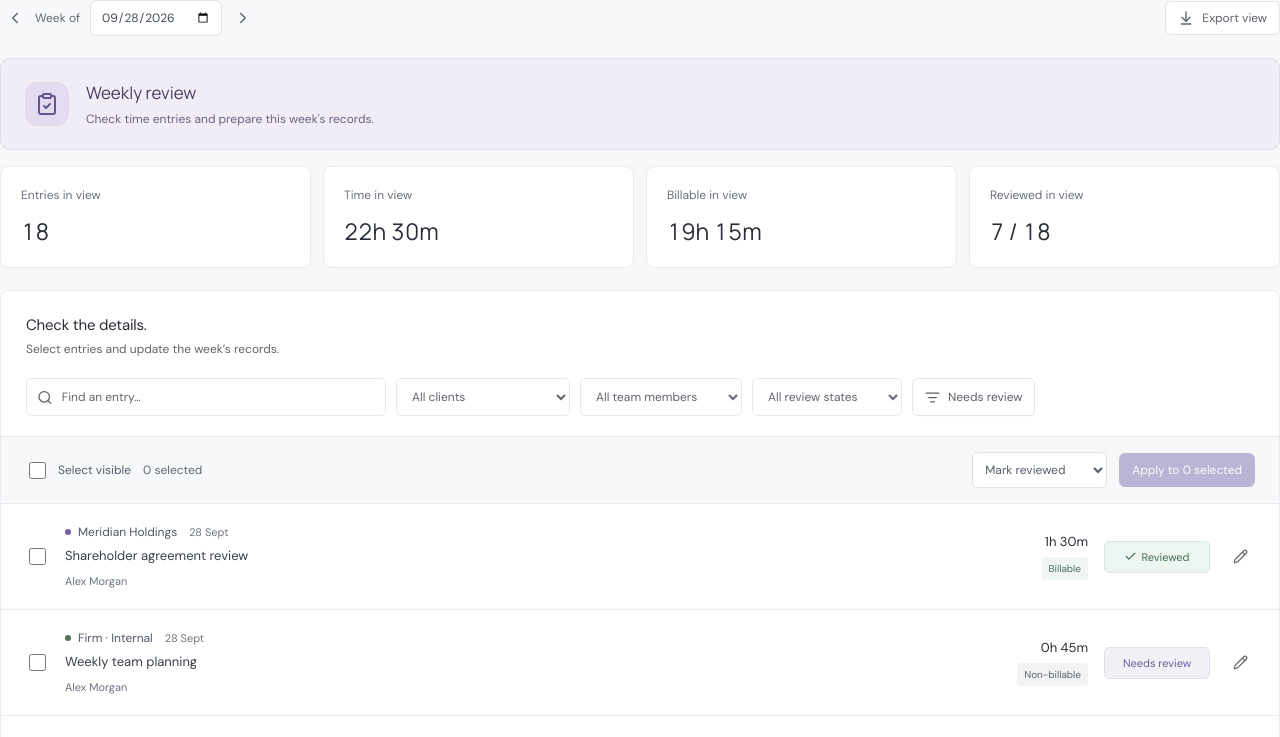
it: ReviewPage scope › reopens a reviewed entry after a client correction
The image size is (1280, 737).
expect the button with aria-label "Reopen Shareholder agreement review" is shown: met, box [1104,540,1210,572]
Click the checkbox named "Select Shareholder agreement review".
click(38, 556)  # box [29,548,46,564]
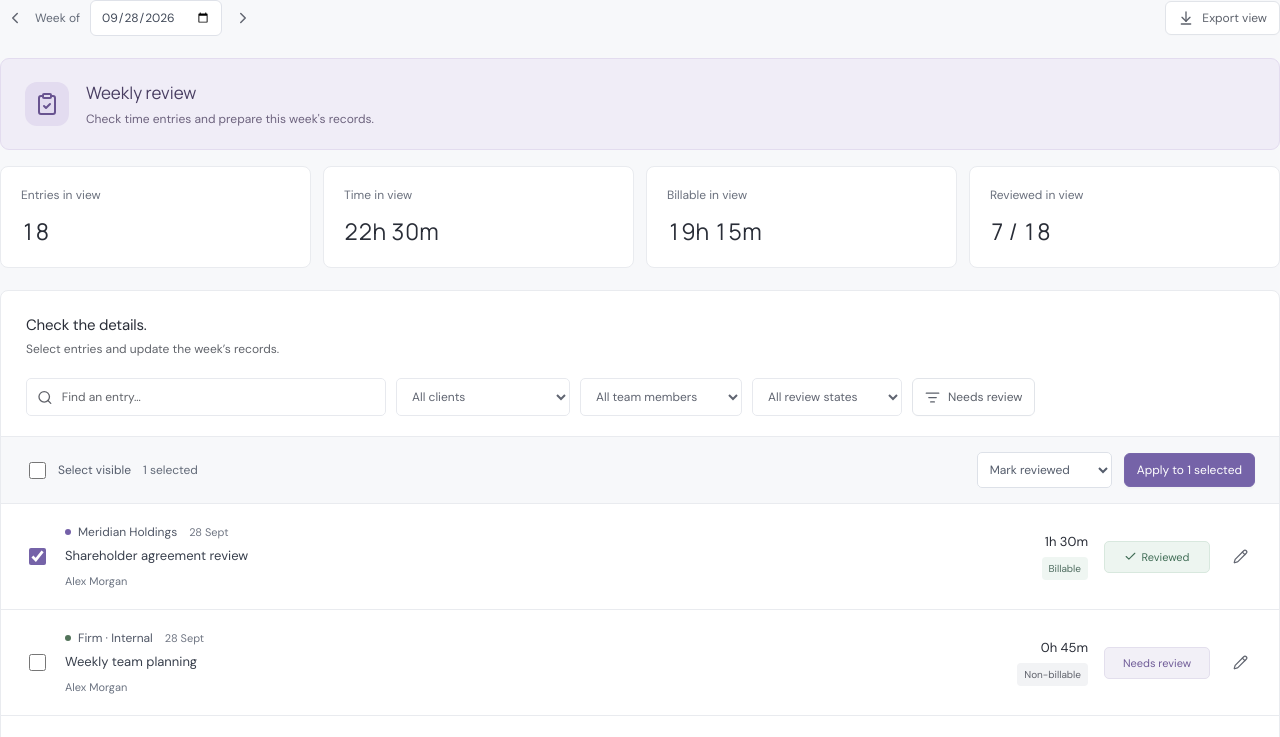
Select "Move to client" in the dropdown named "Bulk action" at (1044, 470), box [977,452,1112,488]
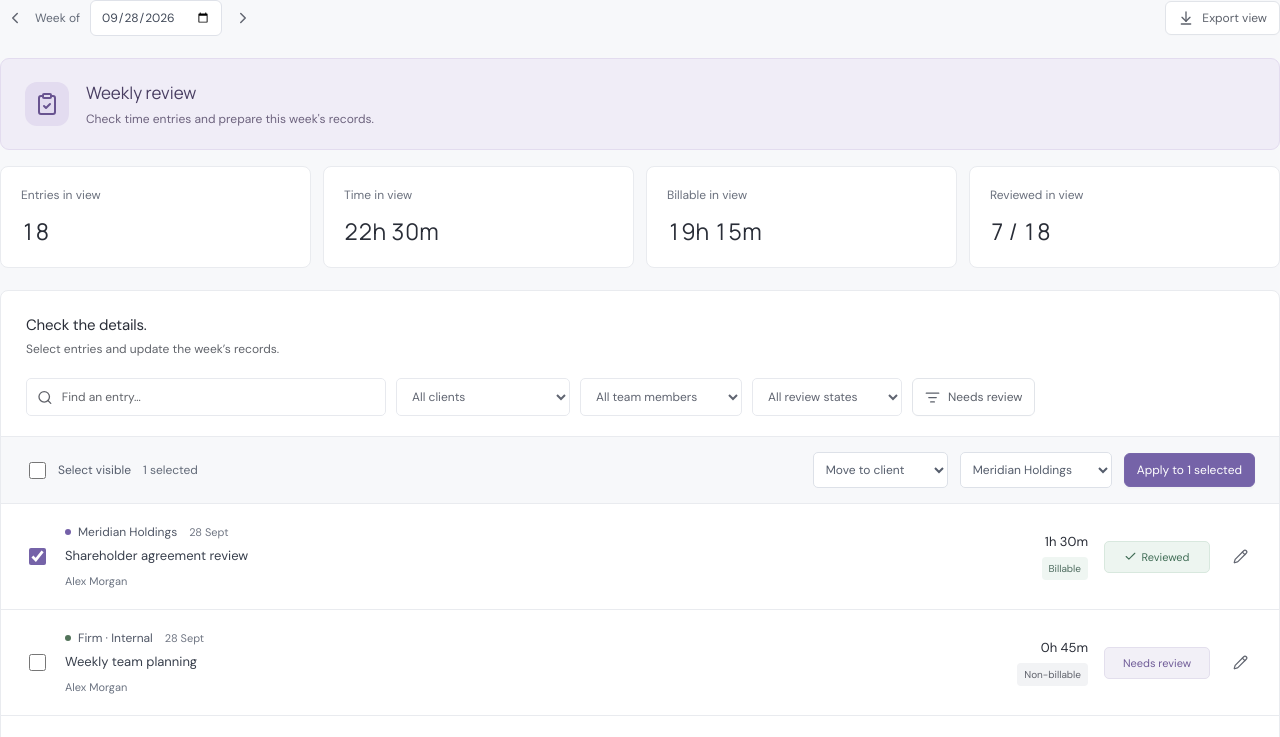
Select "Northstar Ventures" in the dropdown named "Destination client" at (1036, 470), box [960,452,1112,488]
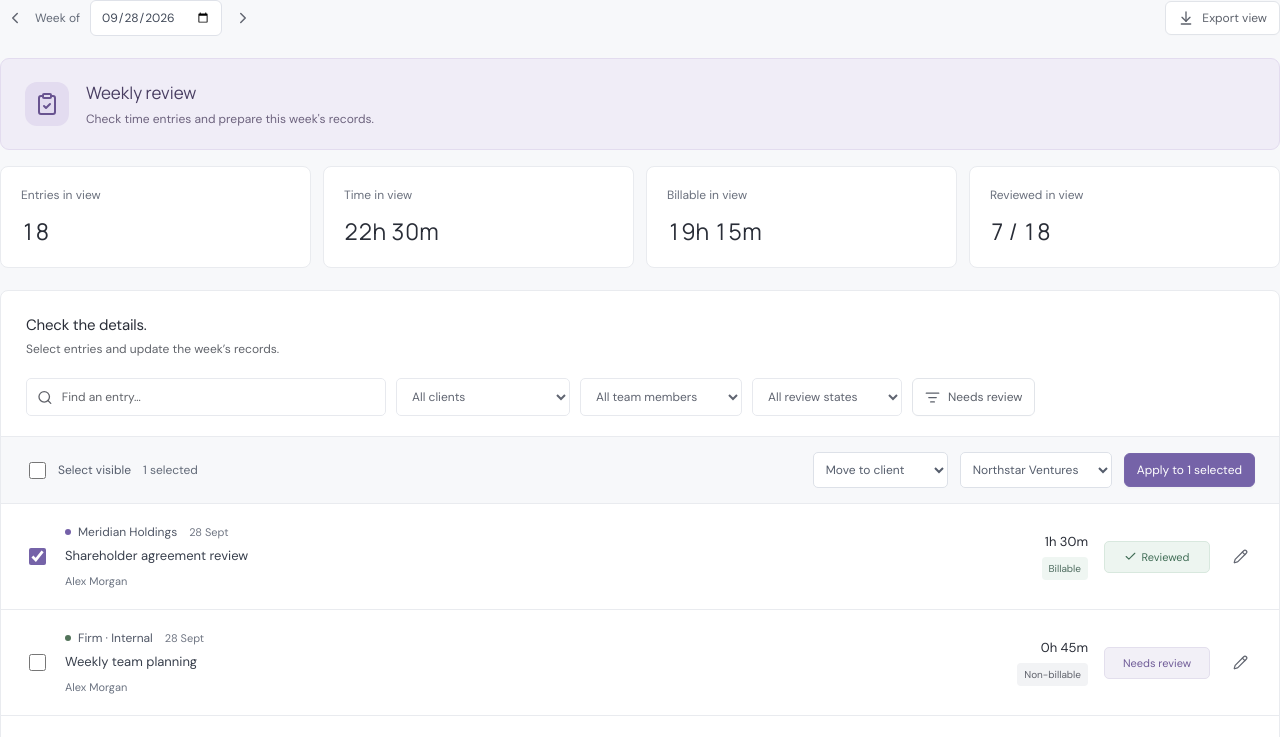
Click the button "Apply to 1 selected".
click(1189, 470)  # box [1124,453,1255,487]
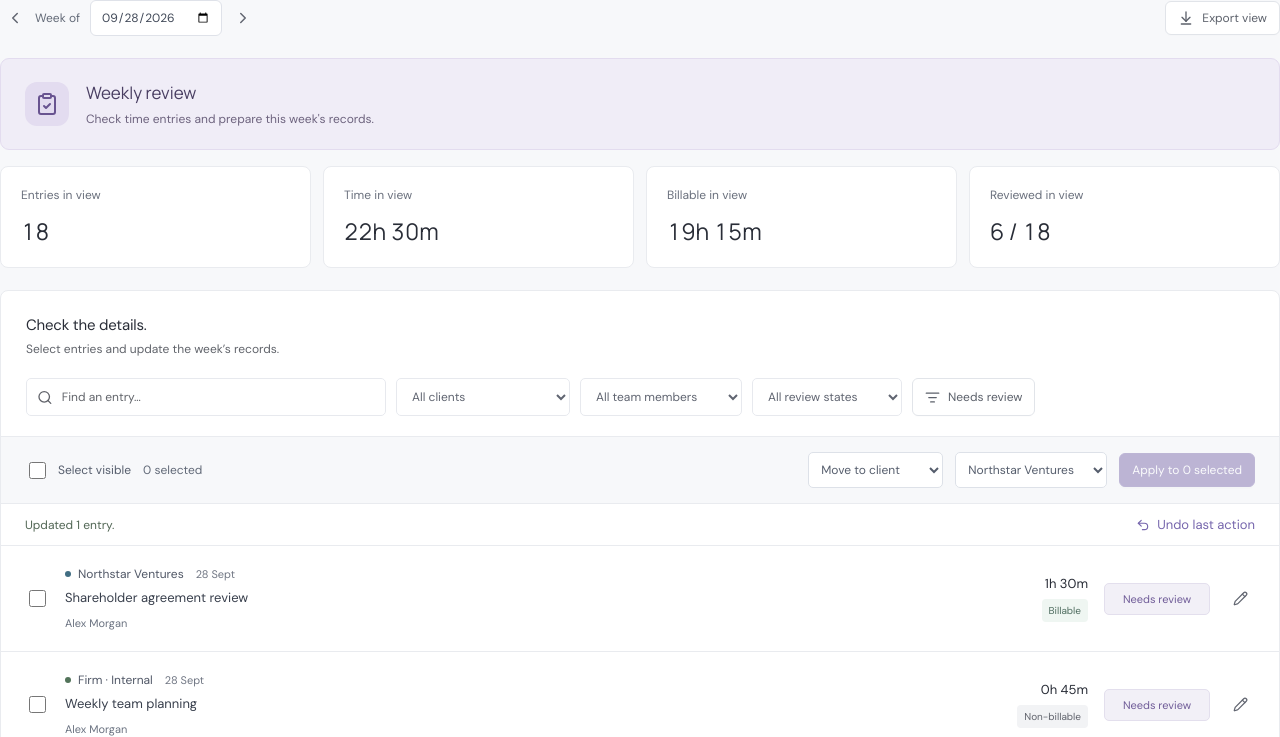
expect the button with aria-label "Review Shareholder agreement review" is shown: met, box [1104,582,1210,614]
